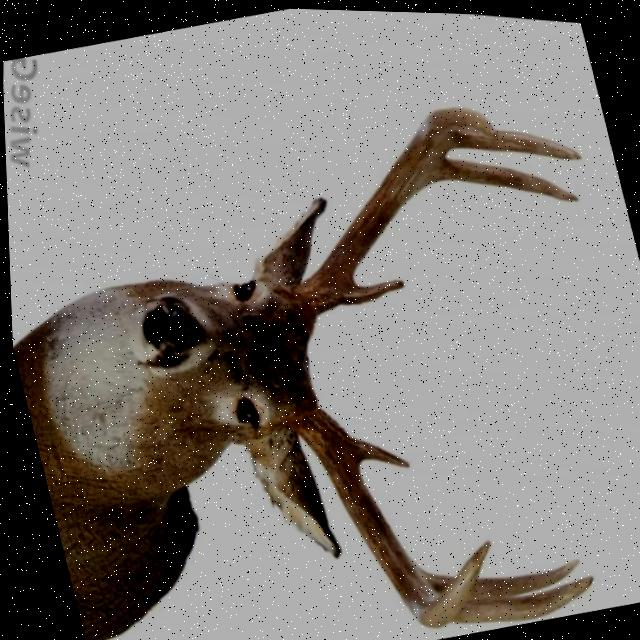L-G1: (335, 277, 402, 303)
L-G2: (434, 155, 577, 198)
R-F: (285, 103, 496, 327), (284, 402, 487, 625)
R-G1: (343, 432, 406, 466)
